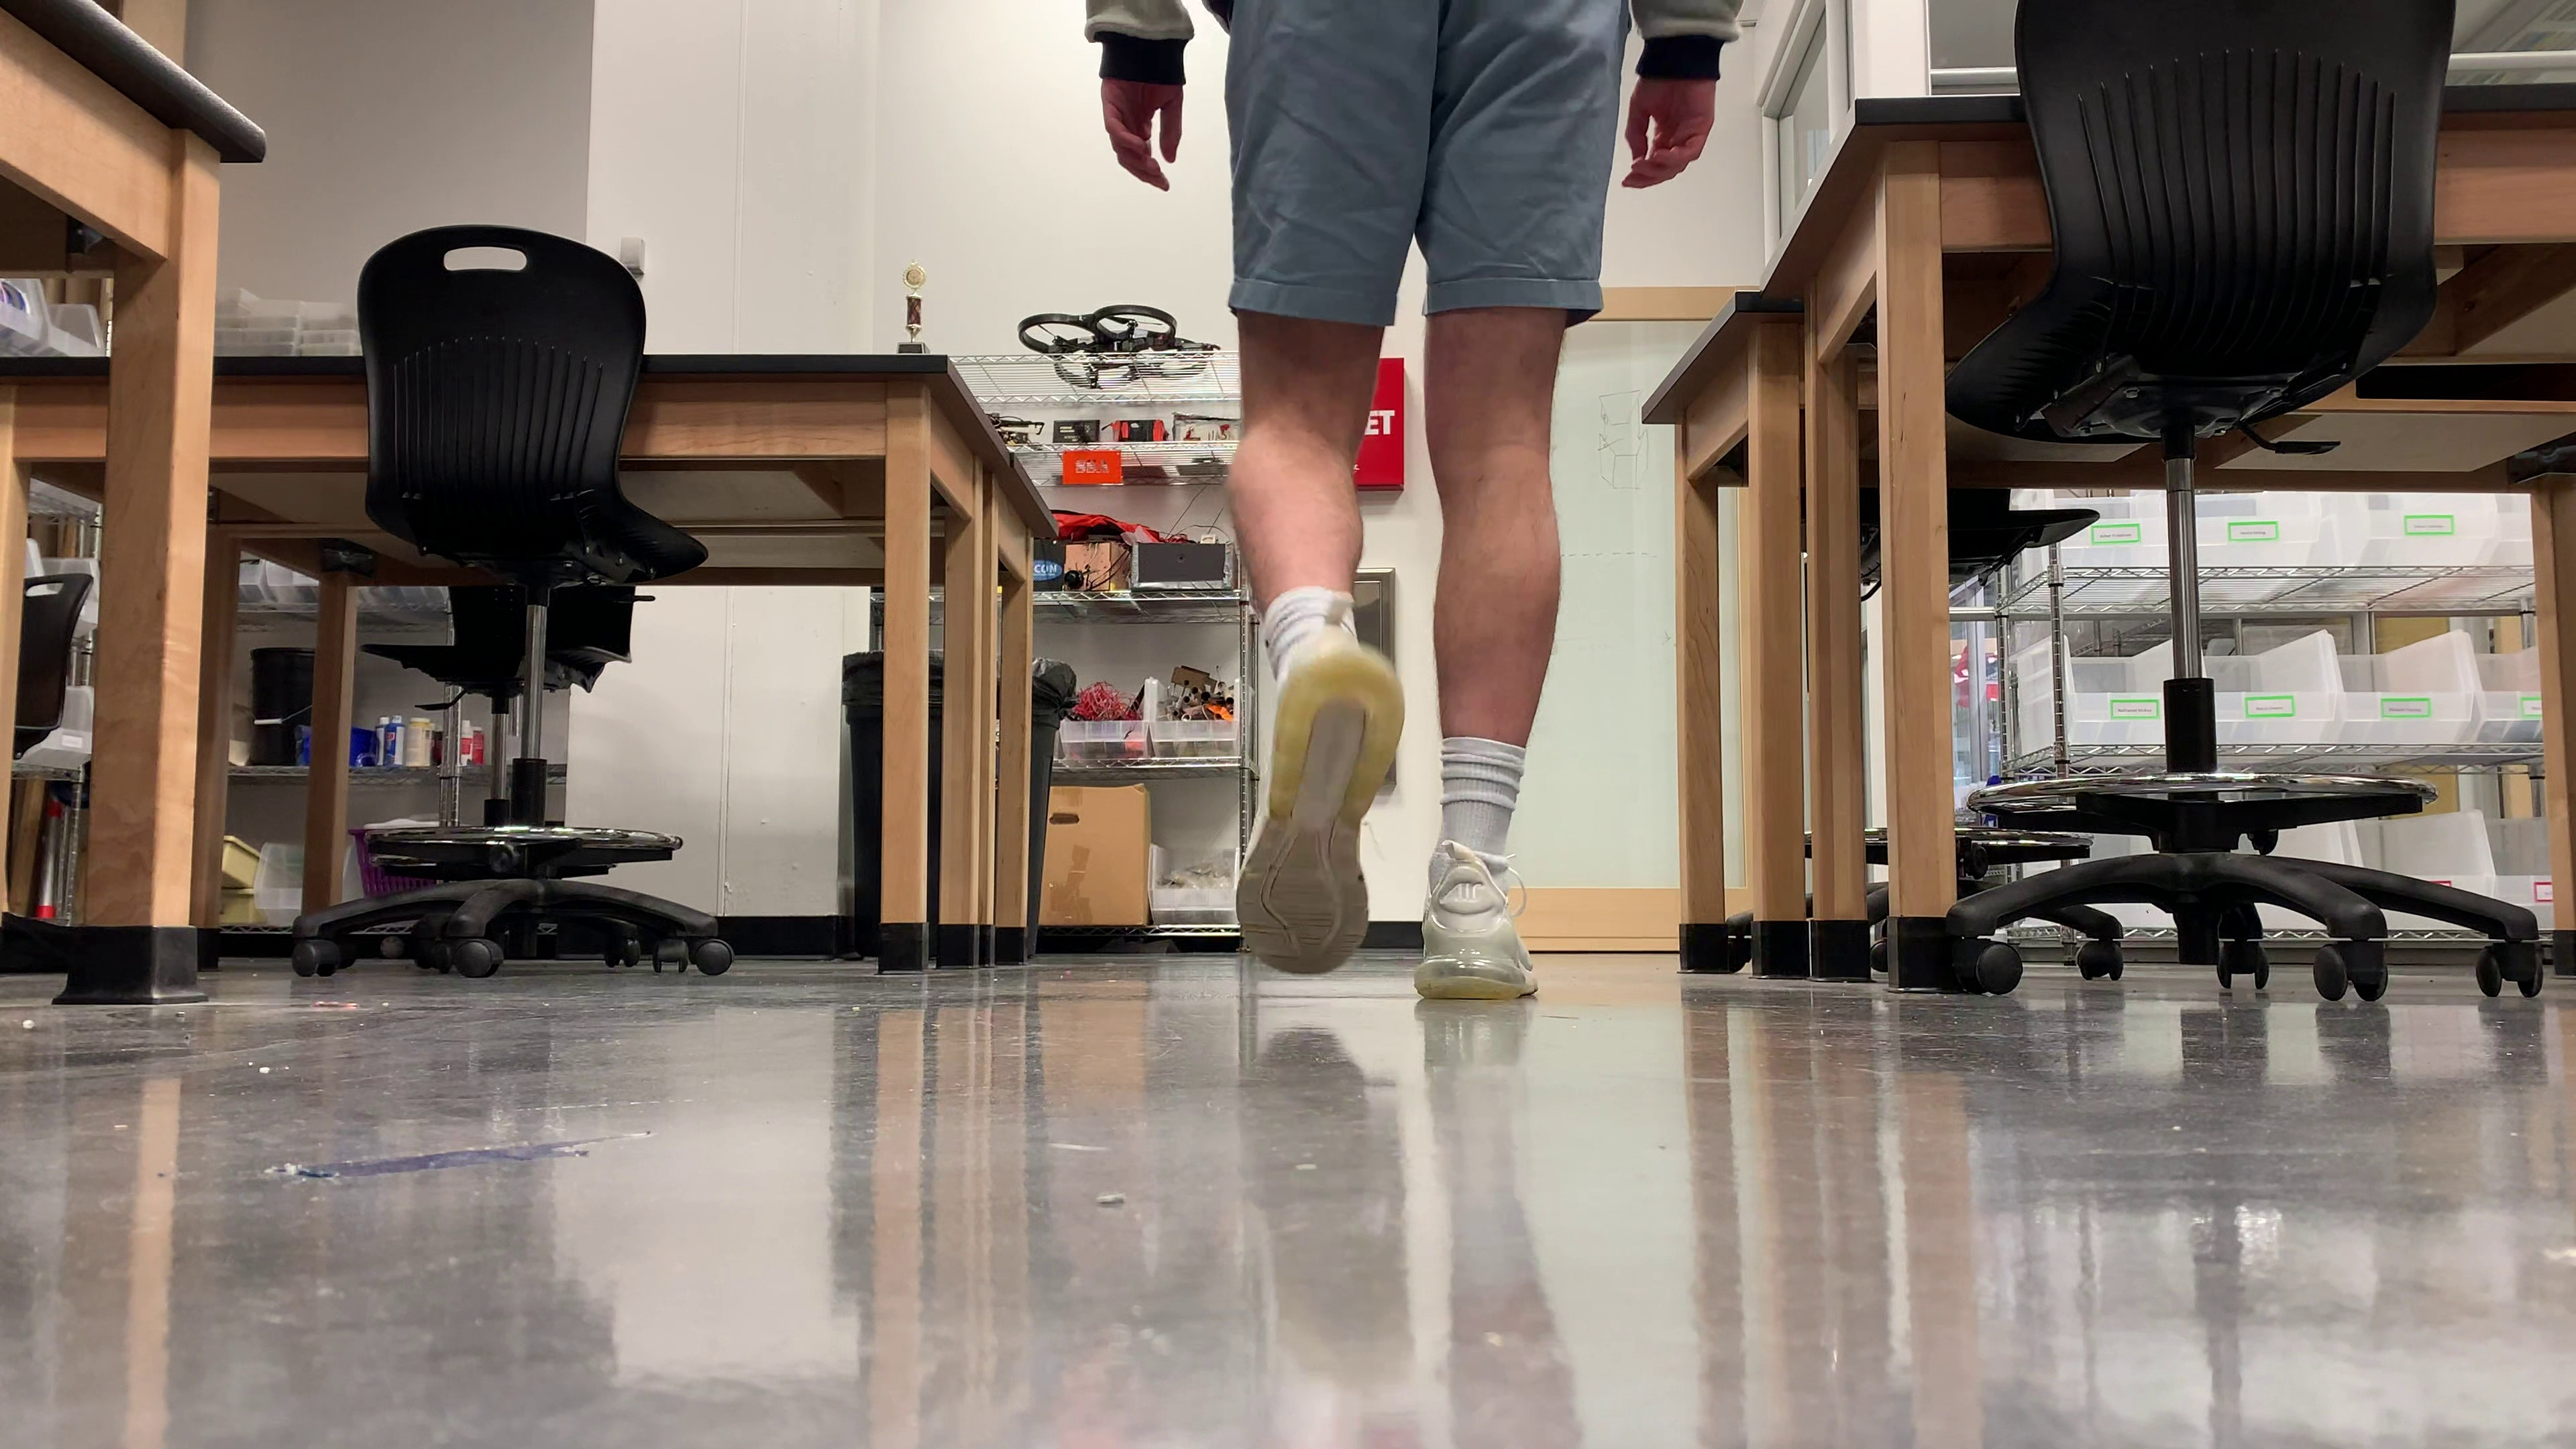shoe: (1233, 628, 1405, 973), (1415, 846, 1534, 1001)
